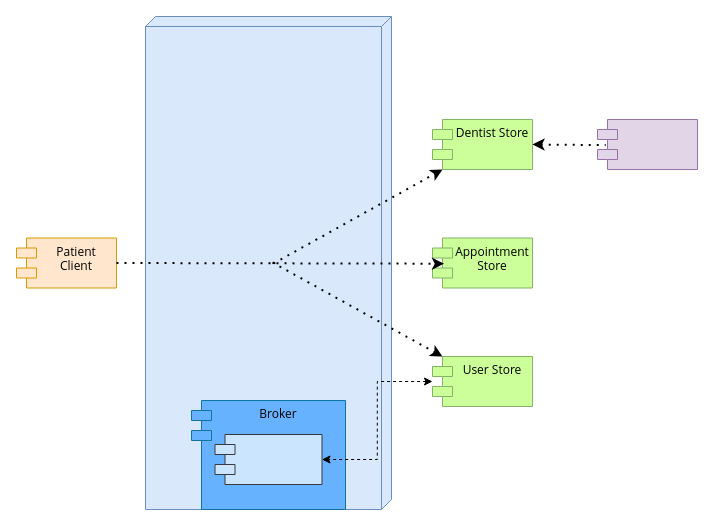
The diagram is 714 pixels wide and 526 high, and some of its shapes have lost their labels. The shapes that lost their labels are listed below. From the top down, each one's centre as x and y in pixels, then its label:
At (647,144): "Dentist Registry".
At (268,459): "Authentication Provider".
